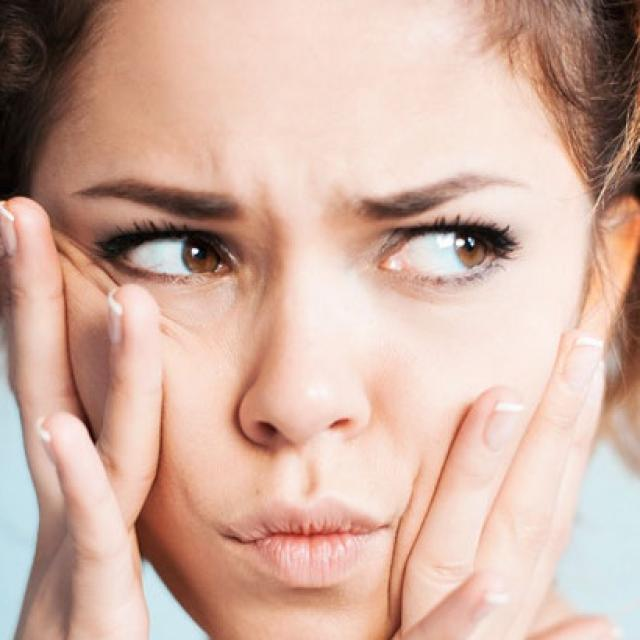Depress: (14, 0, 612, 638)
